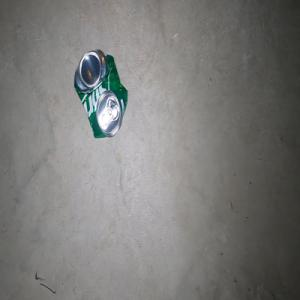SodaCan: (74, 48, 127, 138)
